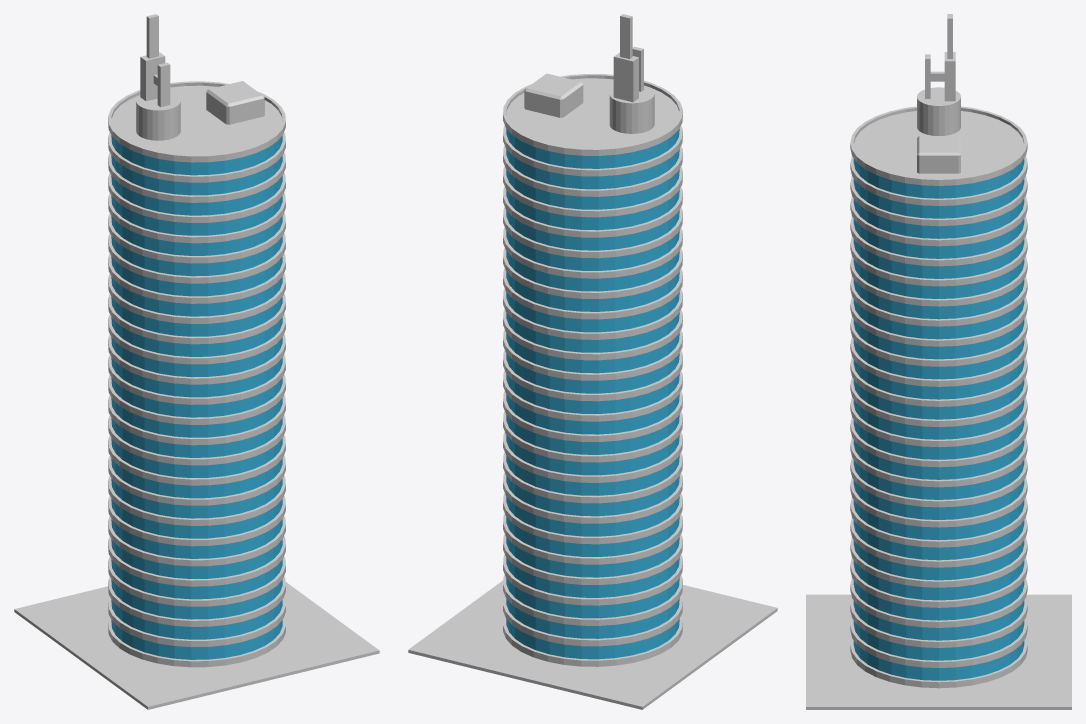
Rendered from Chroma Skyscraper G.fbx.
3 views of the same model, side by side, from view 1: azimuth 30°, elevation 25°; view 2: azimuth 150°, elevation 25°; view 3: azimuth 270°, elevation 25° (orthographic).
Parts seen in each view (by area): view 1: Cylinder, Ground; view 2: Cylinder, Ground; view 3: Cylinder, Ground.
Part boxes in pixels (x1,y1,x2,y2): Cylinder: [108, 14, 285, 667]; Ground: [14, 582, 379, 709]; Cylinder: [503, 14, 682, 666]; Ground: [408, 580, 777, 709]; Cylinder: [850, 14, 1027, 688]; Ground: [806, 594, 1071, 709].
Bounding box in the file's own units: 1200 × 3080 × 1200.
